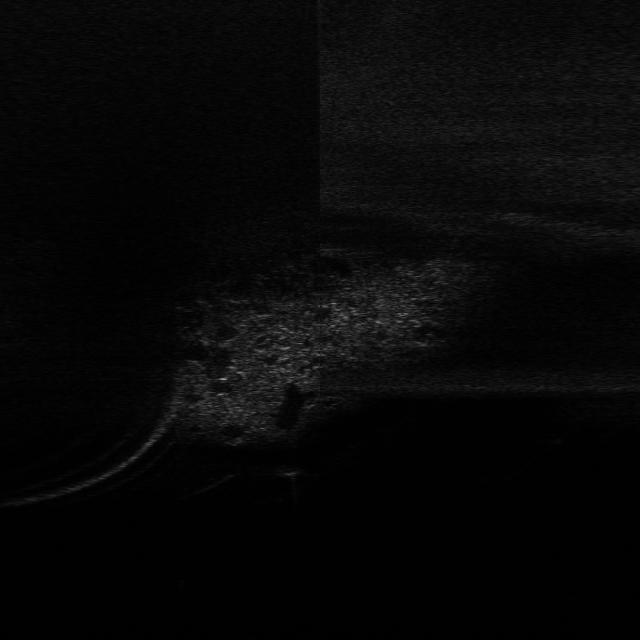cube: (267, 459, 303, 478)
